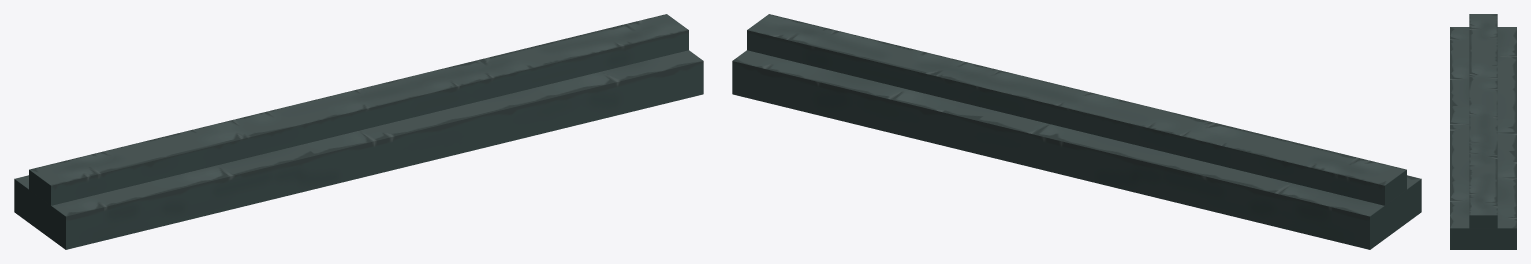
File: Dg_01_rail_006.FBX
3 views of the same model, side by side, from view 1: azimuth 30°, elevation 25°; view 2: azimuth 150°, elevation 25°; view 3: azimuth 270°, elevation 25° (orthographic). The views are drawn at different scales.
Parts seen in each view (by area): view 1: Dg_01_rail_006; view 2: Dg_01_rail_006; view 3: Dg_01_rail_006.
Boxes of the visible parts, x1,y1,x2,y2 form: Dg_01_rail_006: (14, 14, 703, 249); Dg_01_rail_006: (732, 14, 1421, 249); Dg_01_rail_006: (1450, 14, 1516, 249).
Size of the model in its own units: 5 by 0.4 by 0.7.
